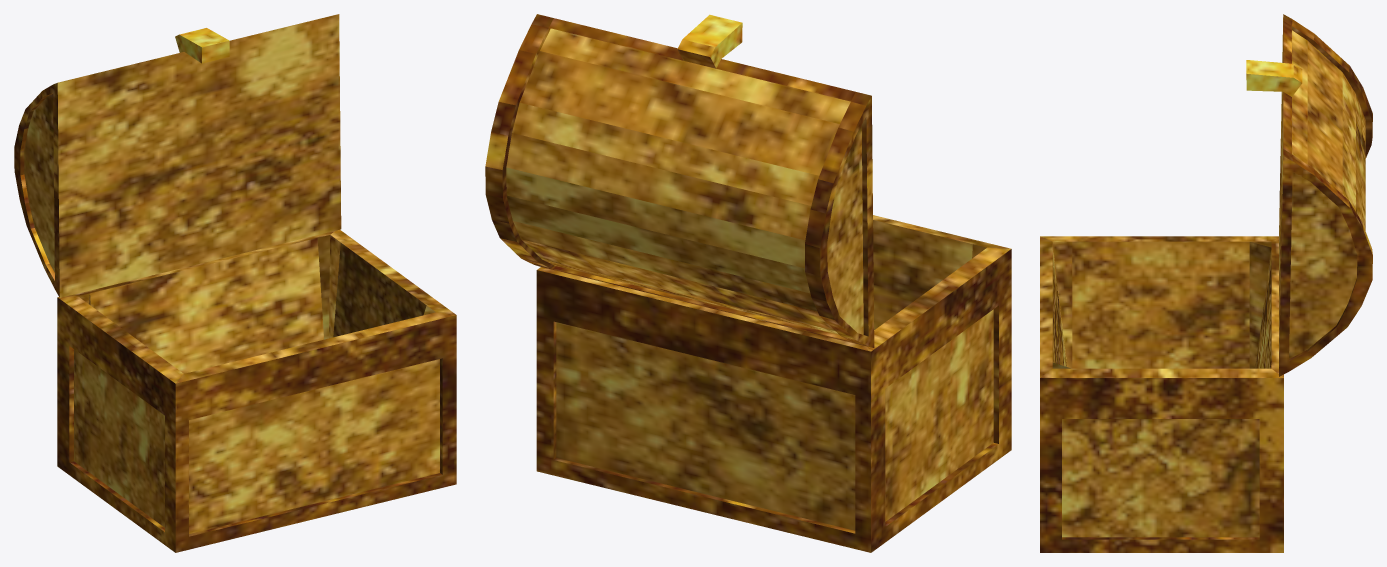
File: OpenTier6Chest.glb
3 views of the same model, side by side, from view 1: azimuth 30°, elevation 25°; view 2: azimuth 150°, elevation 25°; view 3: azimuth 270°, elevation 25° (orthographic). The views are drawn at different scales.
Visible parts, largest first — view 1: OpenTier6Chest; view 2: OpenTier6Chest; view 3: OpenTier6Chest.
Boxes of the visible parts, <box> form: OpenTier6Chest: <box>14,14,456,552</box>; OpenTier6Chest: <box>485,14,1011,552</box>; OpenTier6Chest: <box>1040,14,1372,552</box>.
Size of the model in its own units: 0.686 by 0.9352 by 0.6799.
Materials: 3 (3 with a texture image).
